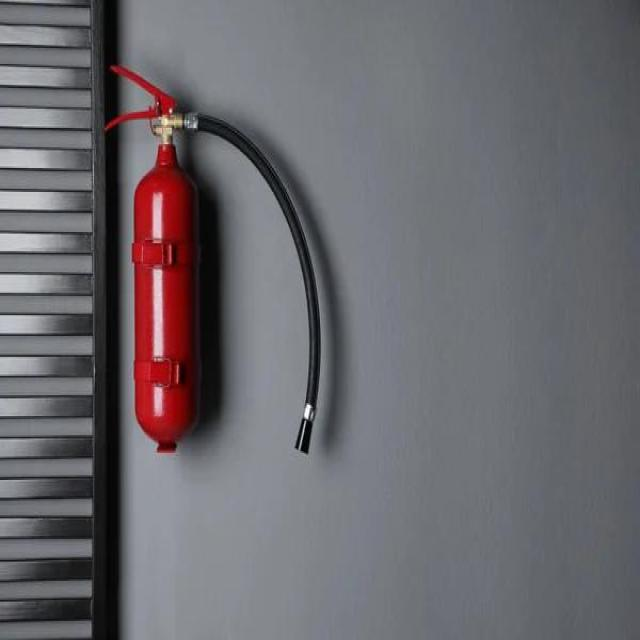fire_extinguisher: (98, 58, 324, 460)
